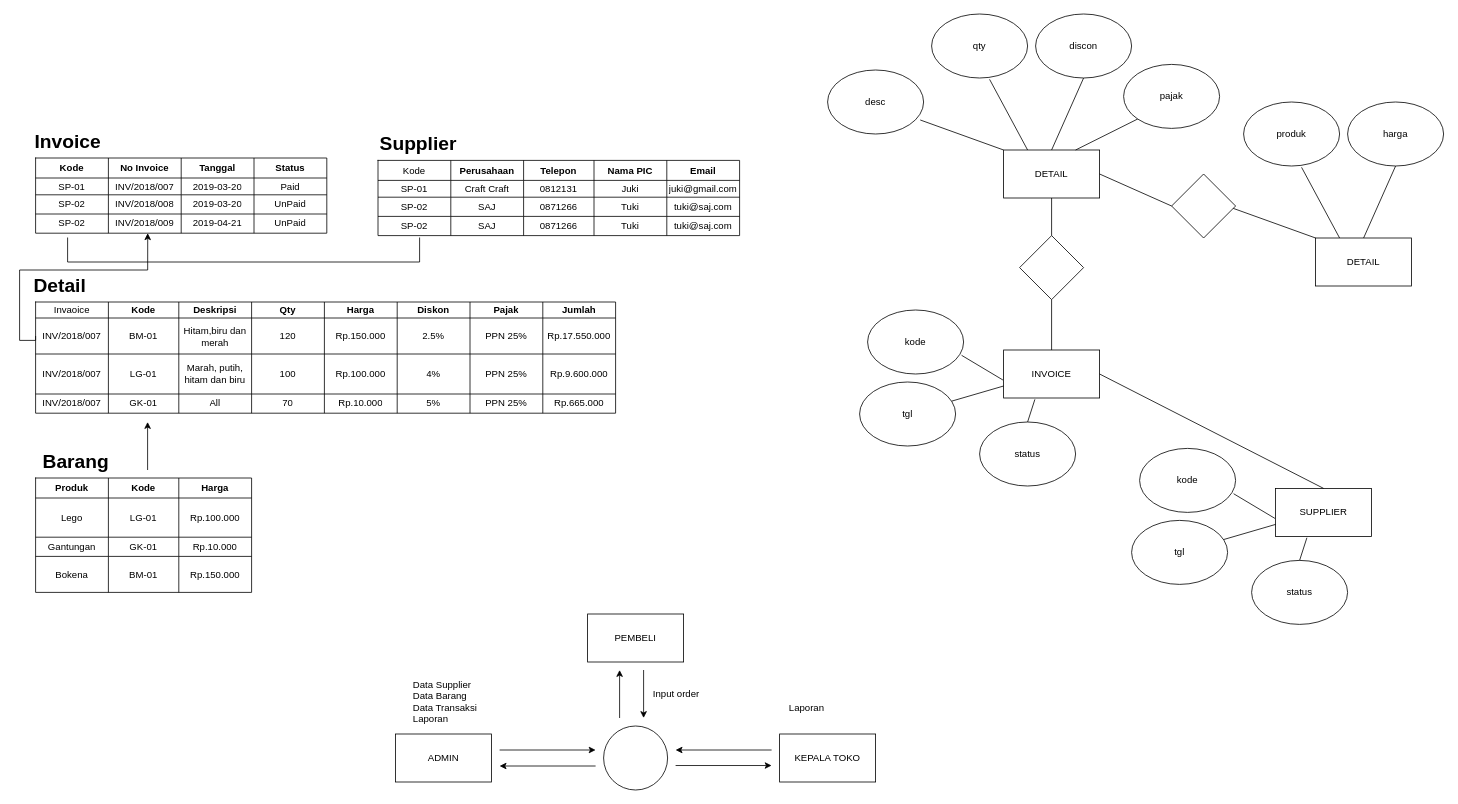
Image size: 1458x804. Some labels were removed from this diagram. The centre of each missing label's shape, as x and y in pixels:
kode_brg: [1203,205]
no_inv: [1051,267]
SISTEM INVOICE: [635,757]
